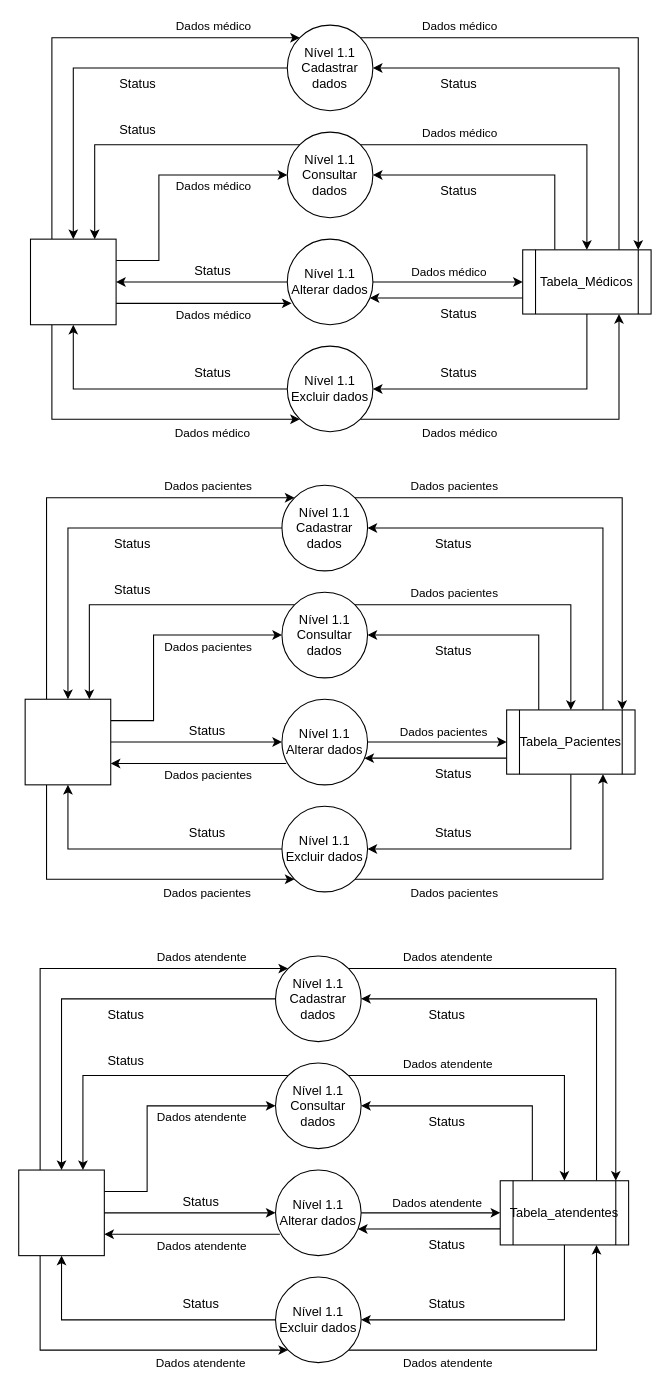
Some shapes in this 670 by 1389 pixel diagram are drawn without their labels. Here are the shapes that lost their labels. From the top down, the box of each, then its label:
(29, 238, 116, 325): Médicos
(24, 698, 111, 785): Pacientes
(18, 1169, 104, 1256): Atendente
